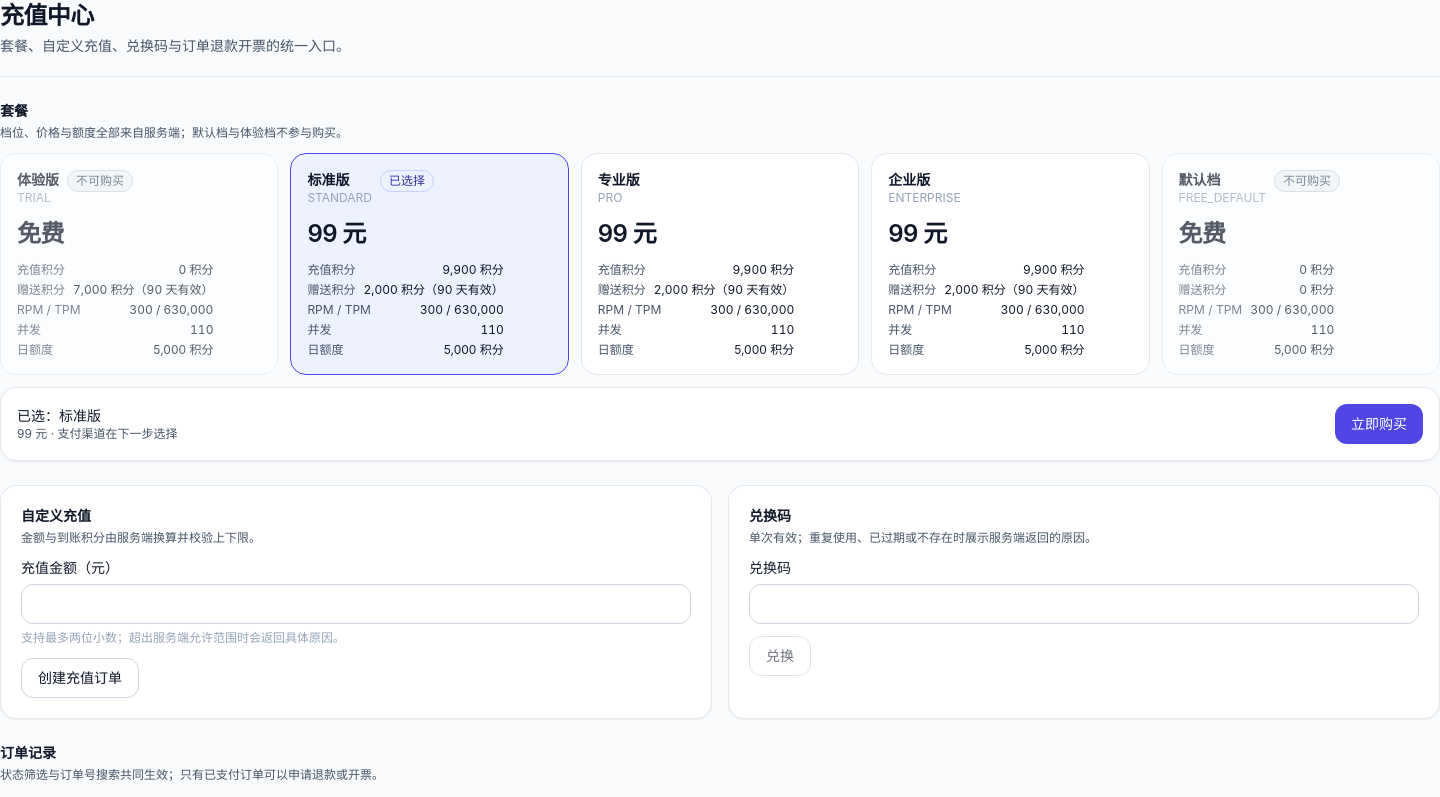
Scenario: RechargePage › F10-2: a created order stays 待支付 and never announces an arrived balance
The image size is (1440, 797).
Click the button "立即购买": coordinates (1379, 424) 1335,404 -> 1423,444
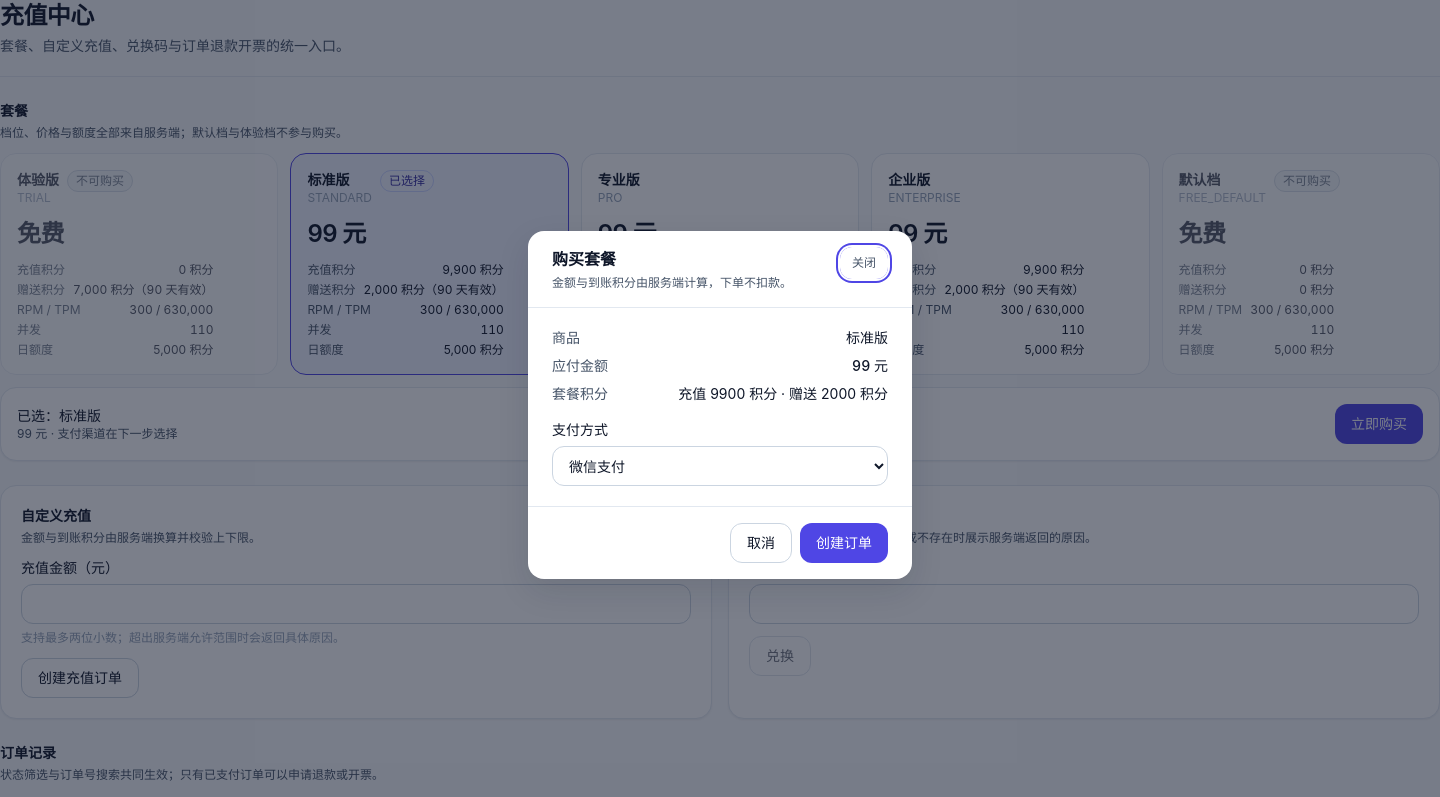
Click the button "创建订单": coordinates (844, 543) 800,523 -> 888,563
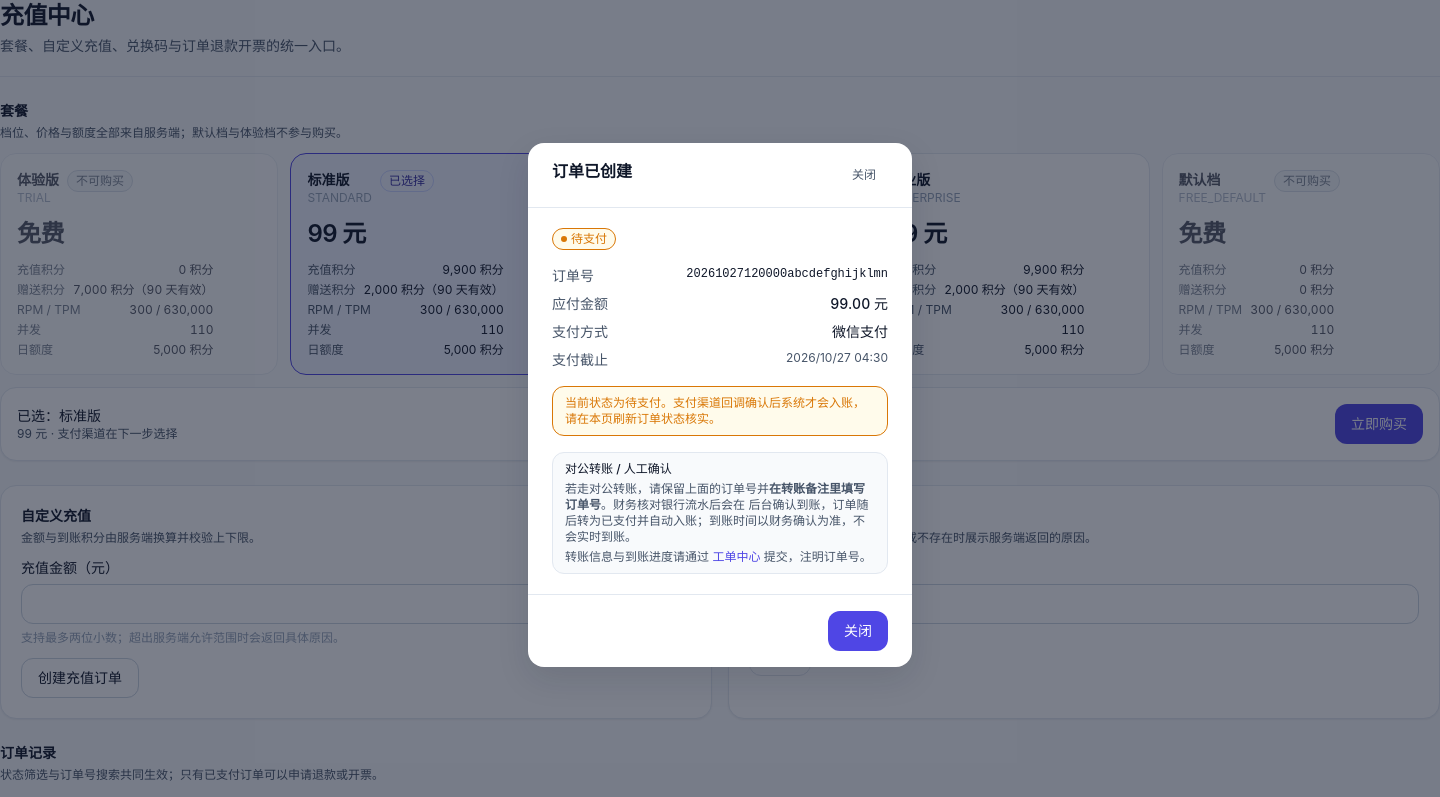
Expected: the text "待支付" is shown, 552,228 -> 616,250
